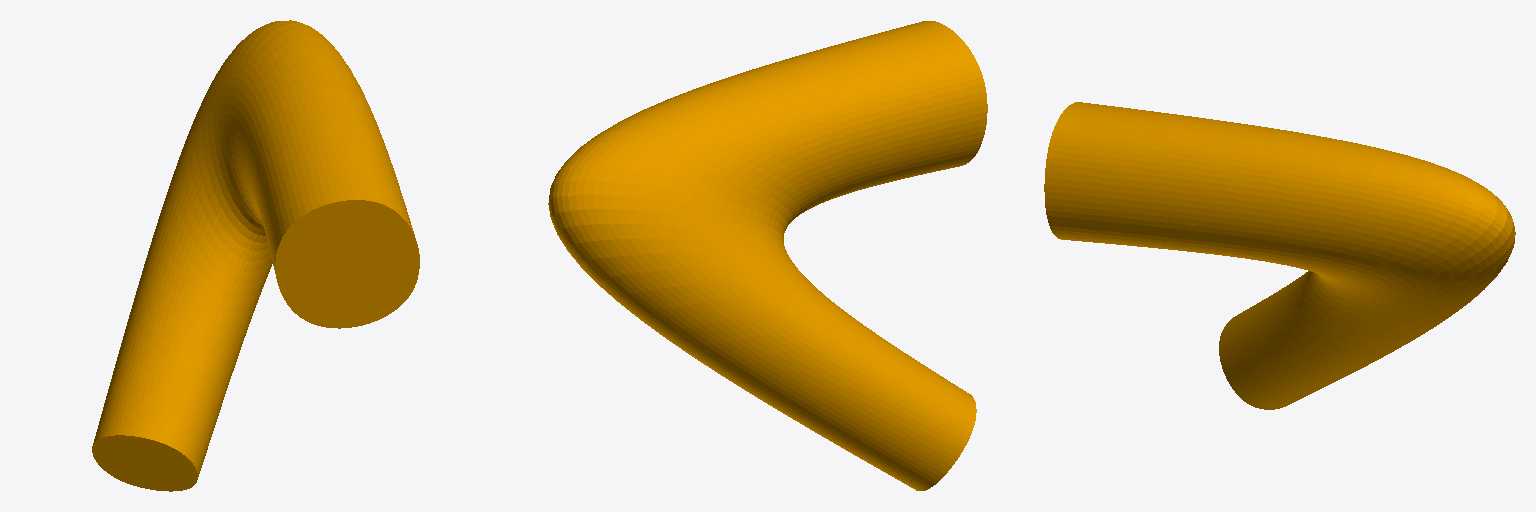
robot.urdf — object:
<robot name="object">
  <link name="object">
    <visual>
      <origin xyz="0 0 0"/>
      <geometry>
        <mesh filename="visual.obj" scale="1 1 1"/>
      </geometry>
    </visual>
    <collision>
      <origin xyz="0 0 0"/>
      <geometry>
        <mesh filename="visual.obj" scale="1 1 1"/>
      </geometry>
    </collision>
    <inertial>
      <mass value="0.05"/>
      <inertia ixx="3.351110813810493e-05" iyy="2.1006464910825168e-05" izz="2.8295551479557552e-05" ixy="-4.3737114777699235e-06" ixz="-6.693130027606447e-06" iyz="3.4883299689656747e-06"/>
    </inertial>
  </link>
</robot>

--- Render facts (derived) ---
Views: 3 orthographic renders of the robot side by side, from view 1: azimuth 30°, elevation 25°; view 2: azimuth 150°, elevation 25°; view 3: azimuth 270°, elevation 25°.
Model object with 1 links and 0 joints (none), rooted at object, posed all joints at 0.
Links seen in each view (by area): view 1: object; view 2: object; view 3: object.
Link boxes in pixels (<box>): object: <box>92,20,419,491</box>; object: <box>548,21,987,490</box>; object: <box>1044,102,1515,409</box>.
Bounding box of the posed robot: 0.0642 × 0.0871 × 0.0703 m (x, y, z).
Meshes: 1 distinct files referenced, 1 mesh visuals loaded (1 OBJ).
